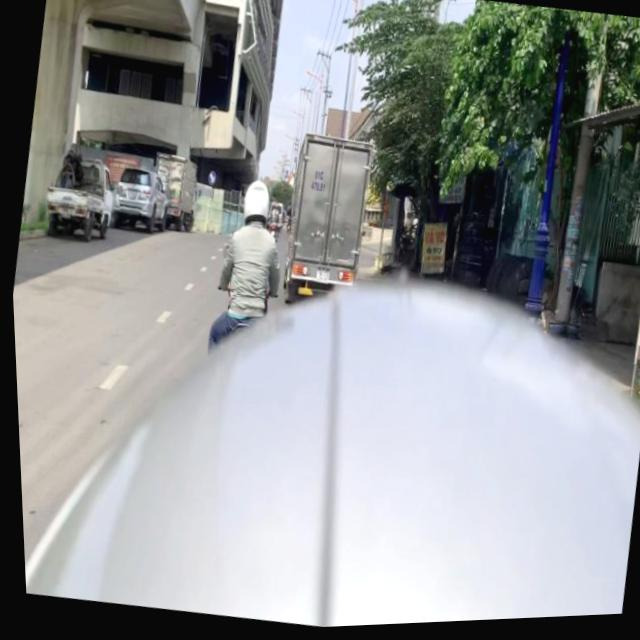Vong chuong ngai vat sang phai: (205, 171, 216, 189)
